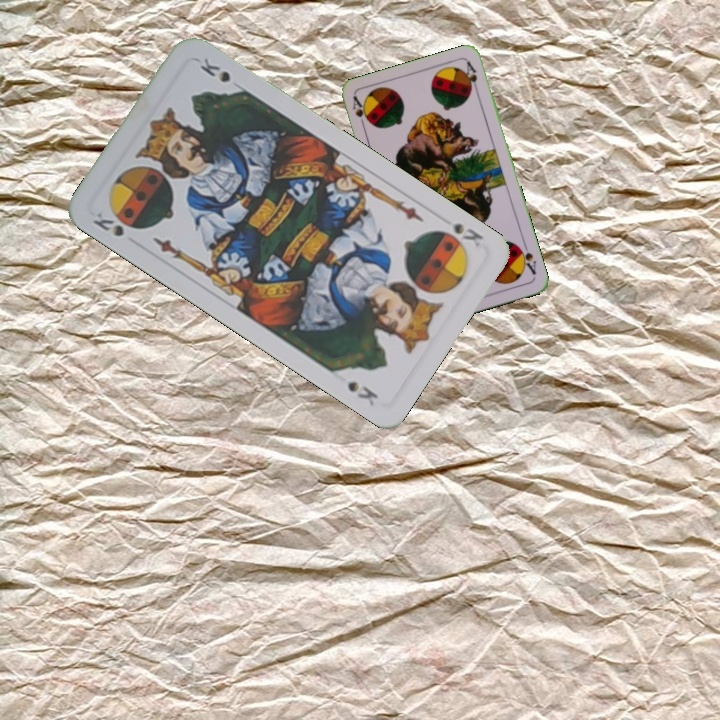SA: (348, 93, 371, 133), (514, 241, 539, 277)
SK: (432, 211, 486, 253), (88, 208, 127, 239)
